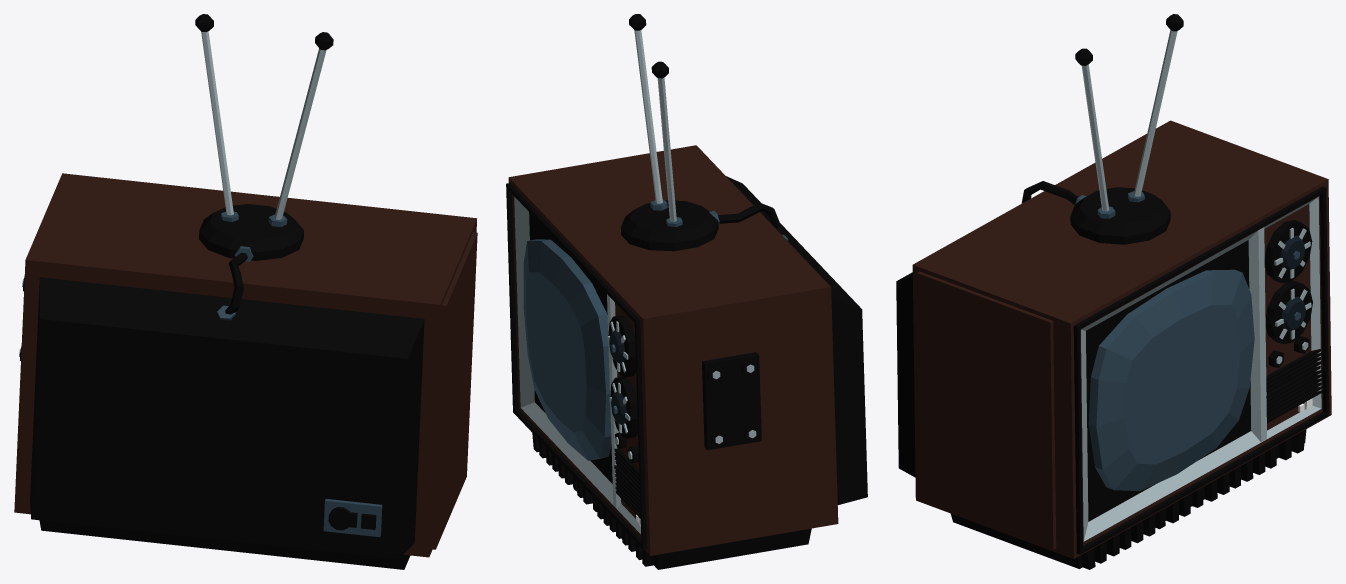
Rendered from old-tv.obj.
3 renders of one model, left to right at view 1: azimuth 30°, elevation 25°; view 2: azimuth 150°, elevation 25°; view 3: azimuth 270°, elevation 25°, orthographic. The views are drawn at different scales.
Visible parts, largest first — view 1: group1078865745; view 2: group1078865745; view 3: group1078865745.
Part boxes in pixels (left/top/right/bottom): group1078865745: left=14, top=14, right=477, bottom=569; group1078865745: left=506, top=14, right=867, bottom=569; group1078865745: left=896, top=14, right=1331, bottom=569.
Bounding box in the file's own units: 0.6722 × 0.759 × 0.6375.
